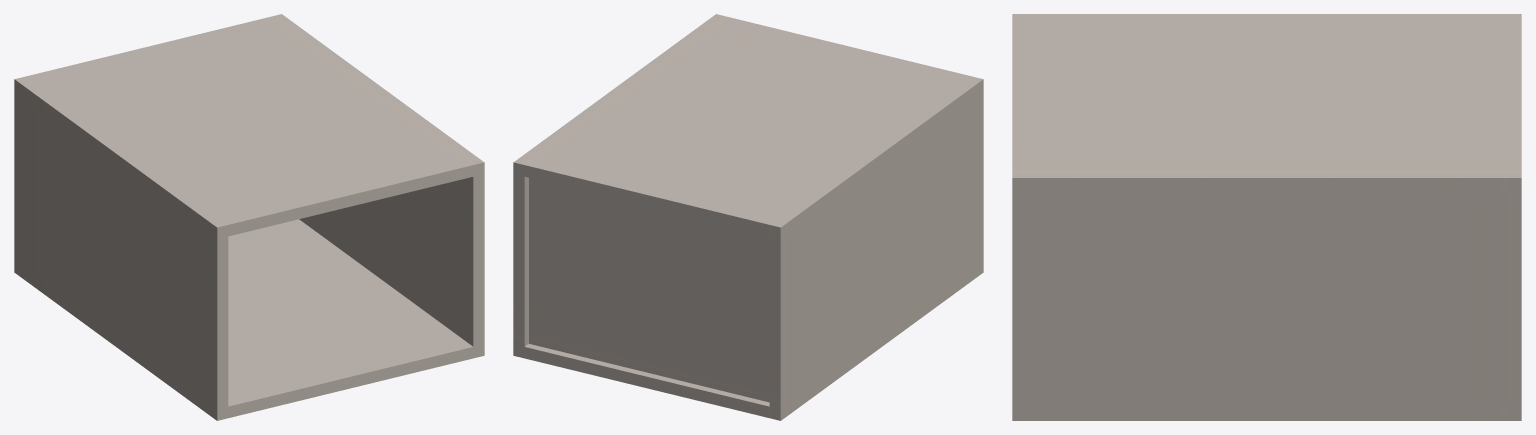
The picture shows the model from 3 angles, left to right: view 1: azimuth 30°, elevation 25°; view 2: azimuth 150°, elevation 25°; view 3: azimuth 270°, elevation 25°; orthographic projection. The views are drawn at different scales.
Visible parts, largest first — view 1: Object_31.001; view 2: Object_31.001; view 3: Object_31.001.
Part boxes in pixels (x1,y1,x2,y2): Object_31.001: [14, 14, 484, 420]; Object_31.001: [513, 14, 983, 420]; Object_31.001: [1012, 14, 1521, 420].
Bounding box in the file's own units: 0.434 × 0.3 × 0.57.
Materials: 1 (1 with a texture image).
